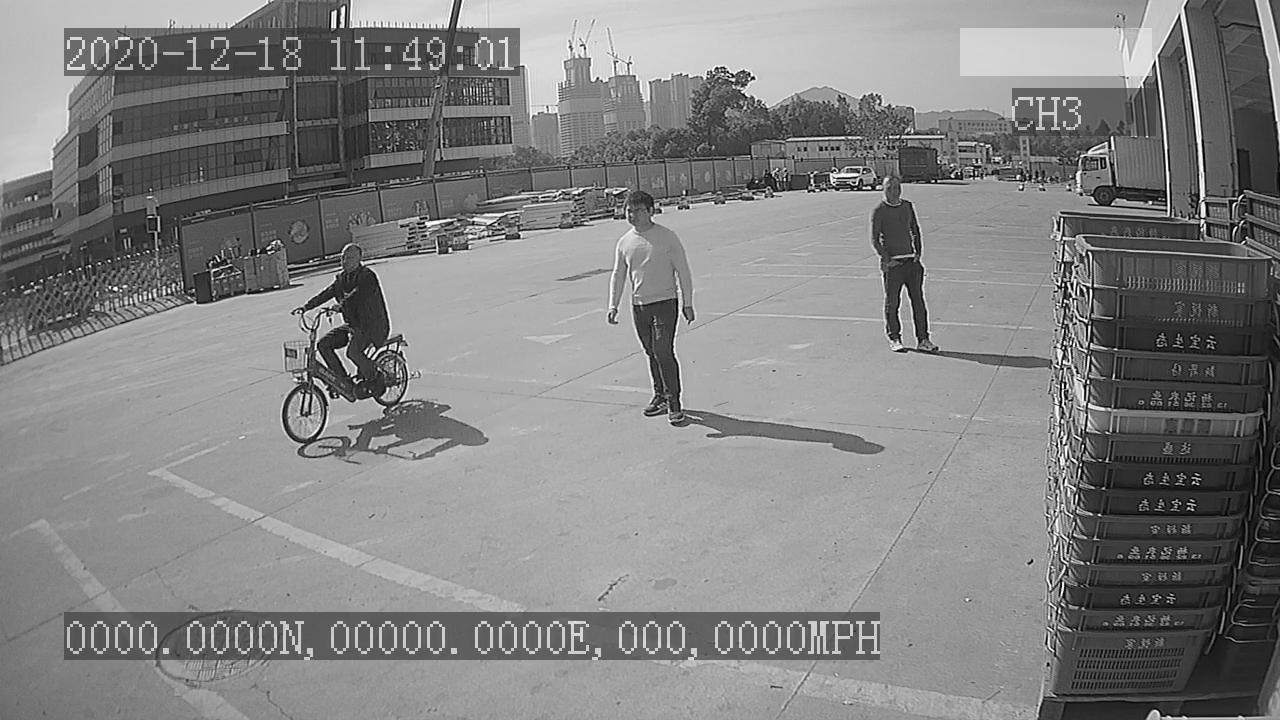person: (601, 185, 697, 431), (868, 172, 940, 356)
